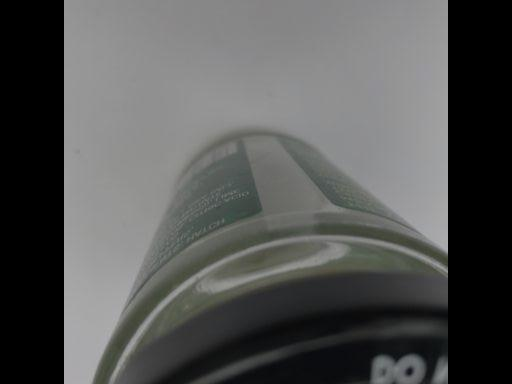metal: (89, 127, 445, 384)
plastic: (90, 129, 445, 384)
